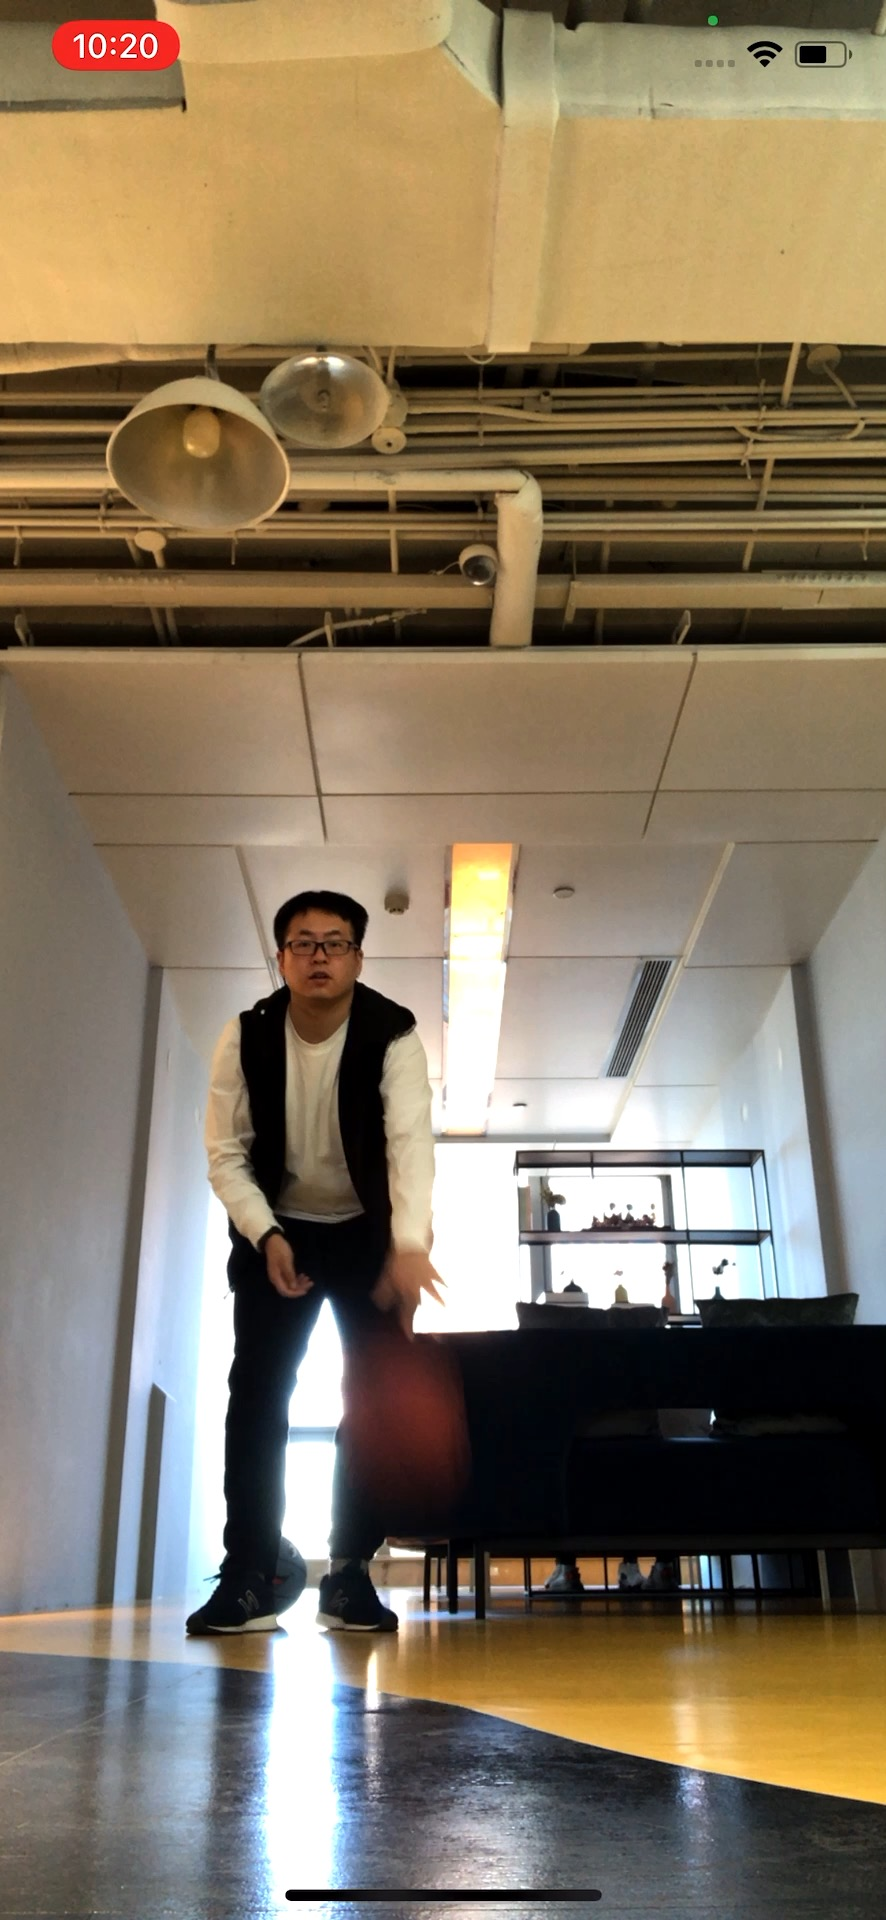ball: (341, 1356, 461, 1478)
